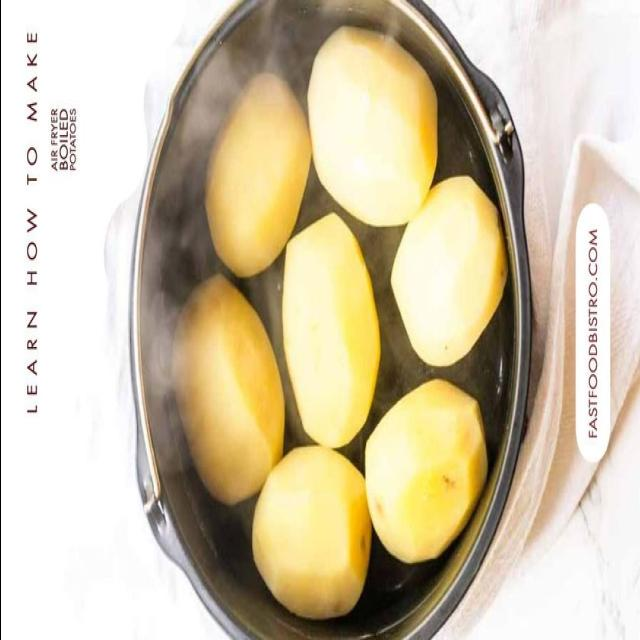kentang rebus: (309, 24, 439, 228), (172, 277, 286, 508), (280, 215, 382, 451), (364, 378, 491, 566), (204, 72, 314, 279), (391, 176, 506, 367), (251, 444, 375, 621)
